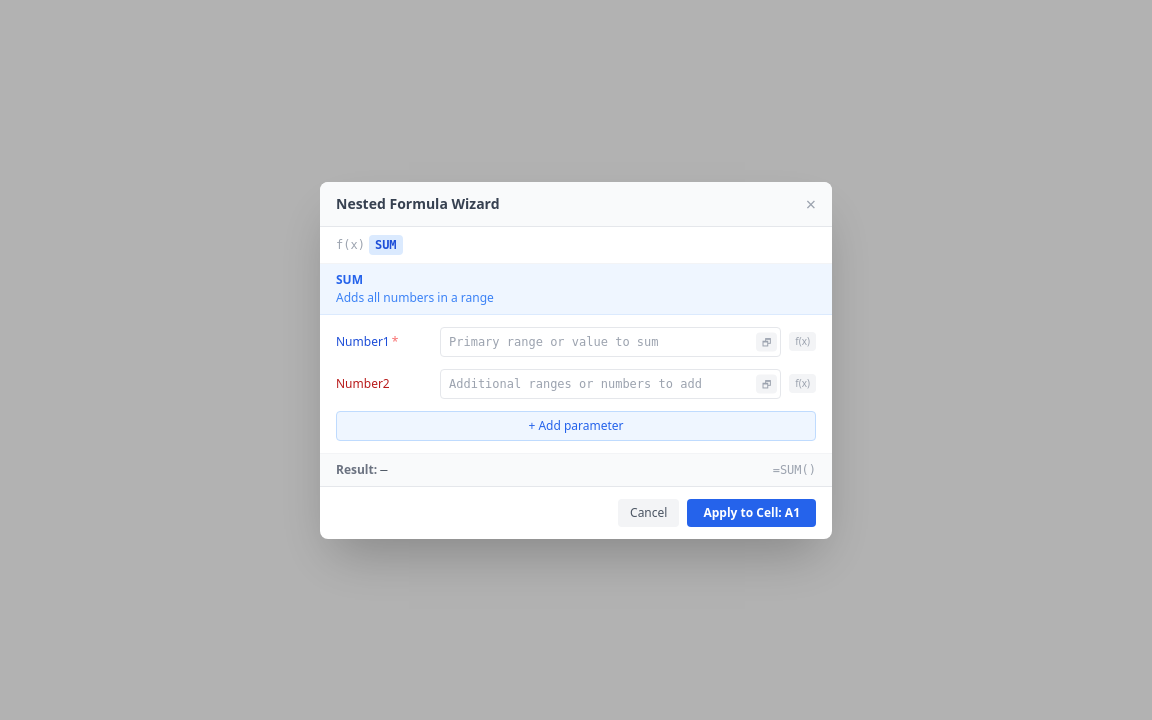
FormulaWizard › shows nested function picker when f(x) button is clicked
Later steps or results of the test are not shown.
Click the button titled "Insert nested function" in the row of "Number1" at (803,342), box [789, 332, 816, 351]
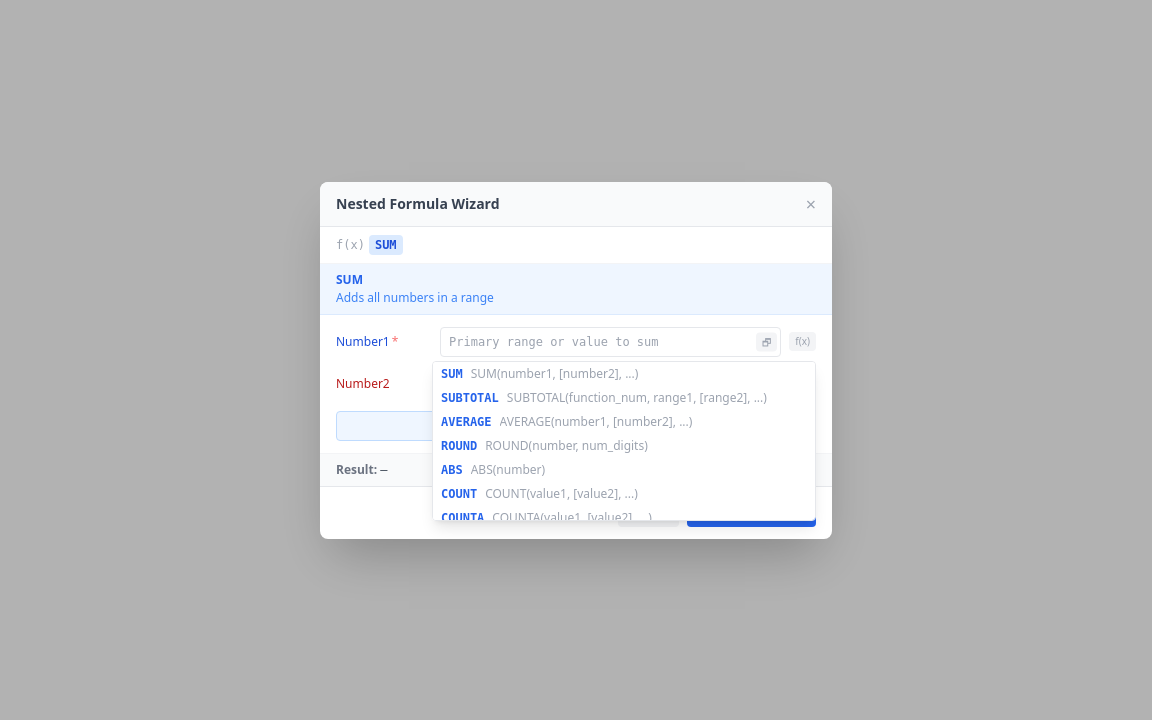
Expected: the text "AVERAGE" is shown, [441, 414, 492, 430]
